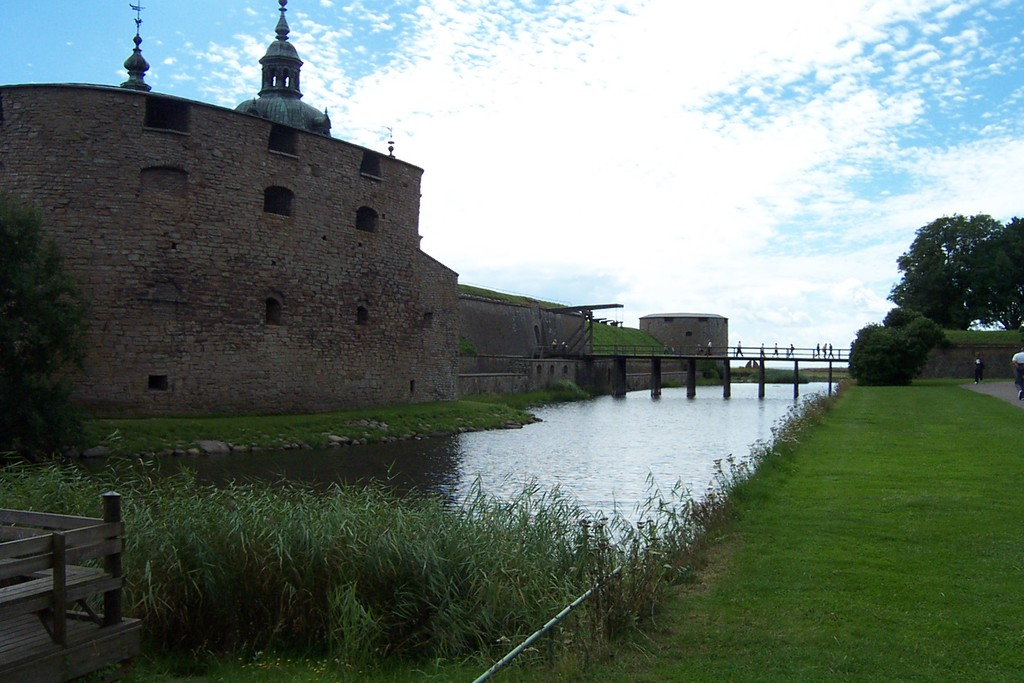Tree: (888, 209, 1024, 329), (846, 306, 947, 388)
